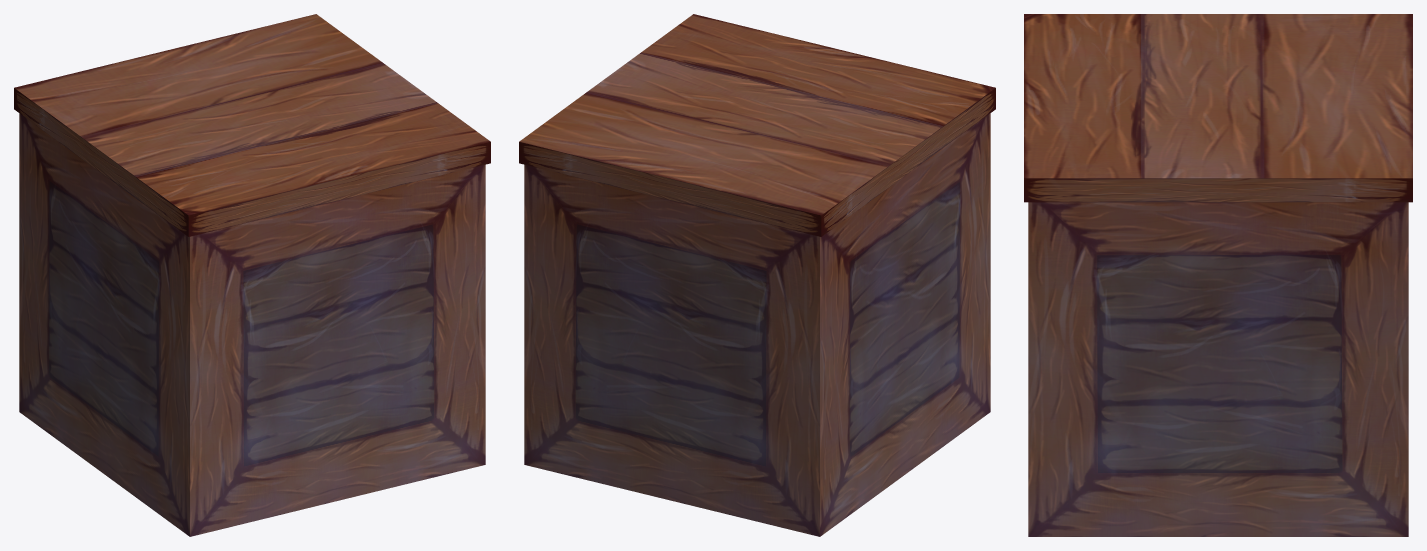
The picture shows the model from 3 angles, left to right: view 1: azimuth 30°, elevation 25°; view 2: azimuth 150°, elevation 25°; view 3: azimuth 270°, elevation 25°; orthographic projection. The views are drawn at different scales.
Parts seen in each view (by area): view 1: Cube, Cubo; view 2: Cube, Cubo; view 3: Cube, Cubo.
Boxes of the visible parts, <box> form: Cube: <box>19,113,485,536</box>; Cubo: <box>14,14,490,236</box>; Cube: <box>524,113,990,536</box>; Cubo: <box>519,14,995,236</box>; Cube: <box>1028,202,1408,536</box>; Cubo: <box>1024,14,1412,202</box>.
Size of the model in its own units: 200 by 205 by 200.
Materials: 2 (2 with a texture image).
